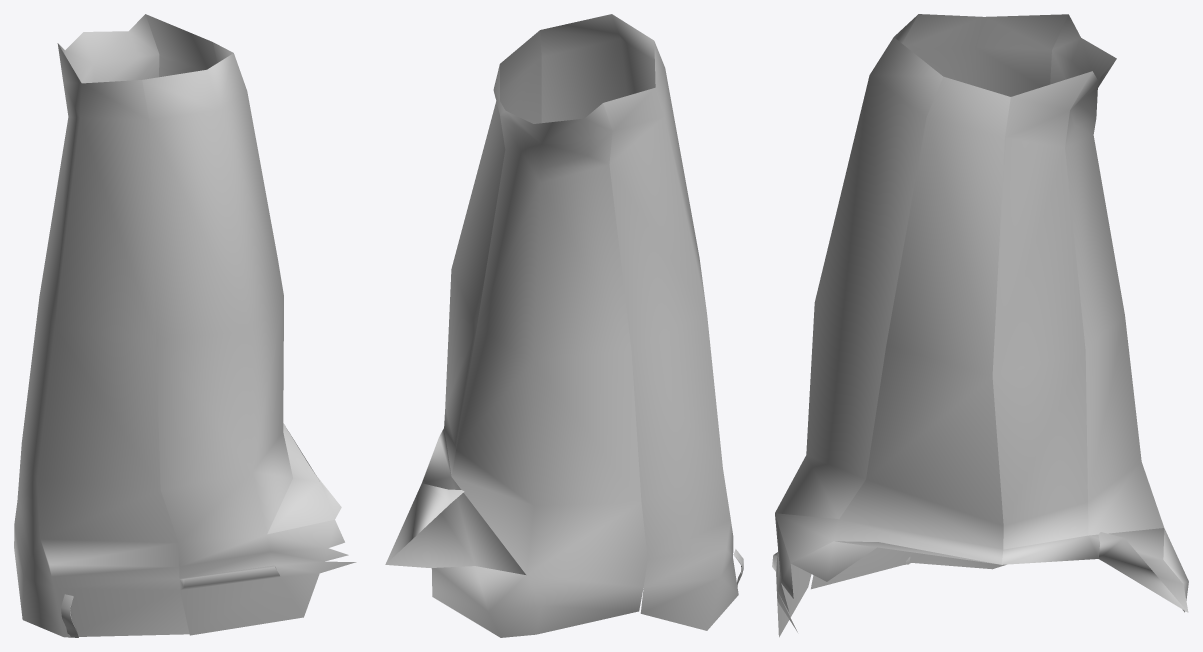
Rendered from left_up_leg.glb.
The picture shows the model from 3 angles, left to right: view 1: azimuth 30°, elevation 25°; view 2: azimuth 150°, elevation 25°; view 3: azimuth 270°, elevation 25°; orthographic projection. The views are drawn at different scales.
Parts seen in each view (by area): view 1: trousers-white_LEFT_UP_LEG; view 2: trousers-white_LEFT_UP_LEG; view 3: trousers-white_LEFT_UP_LEG.
Boxes of the visible parts, x1,y1,x2,y2 form: trousers-white_LEFT_UP_LEG: (14, 14, 356, 637); trousers-white_LEFT_UP_LEG: (385, 14, 743, 637); trousers-white_LEFT_UP_LEG: (772, 14, 1188, 637).
Bounding box in the file's own units: 0.2605 × 0.5071 × 0.3154.
Materials: 1 (1 with a texture image).
